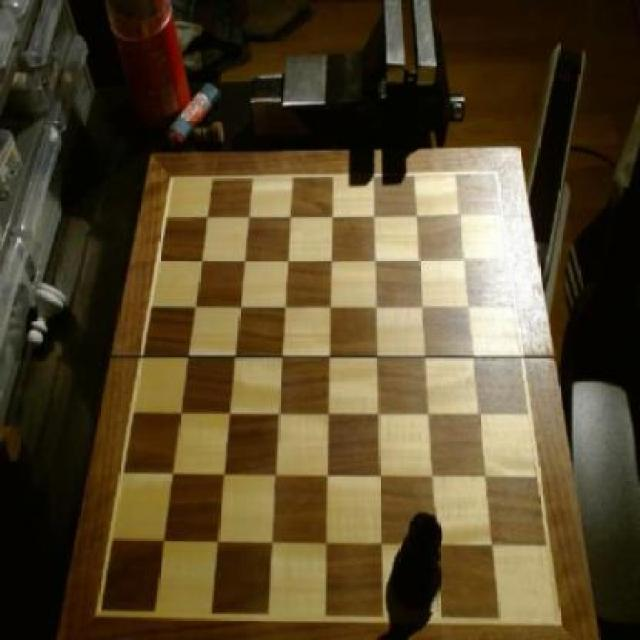black-bishop: (399, 506, 443, 612)
